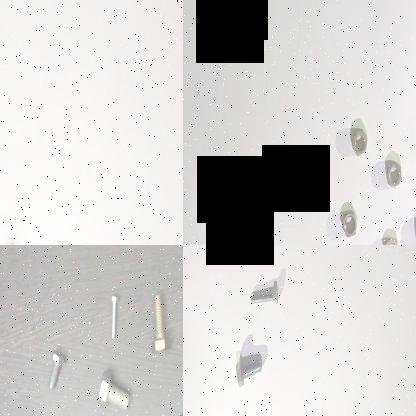Bolts: (95, 367, 133, 414), (148, 288, 171, 358), (40, 340, 70, 392), (233, 348, 265, 390), (249, 278, 281, 310), (106, 288, 120, 342), (163, 403, 183, 416)
NUTS: (382, 156, 404, 192), (348, 123, 368, 159), (340, 207, 358, 236), (380, 230, 400, 245), (411, 211, 416, 245)
